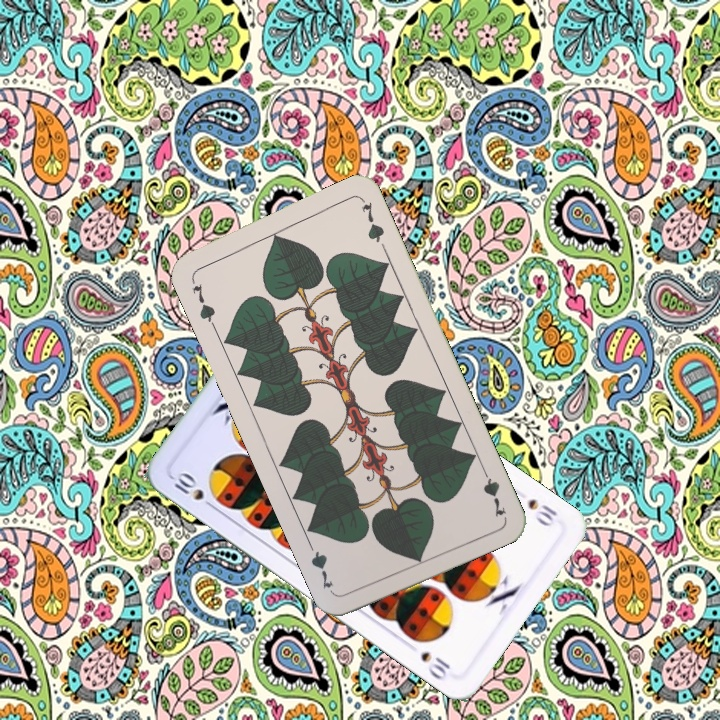G7: (477, 462, 509, 520), (188, 279, 218, 330)
S10: (170, 468, 219, 513), (524, 495, 561, 529)
